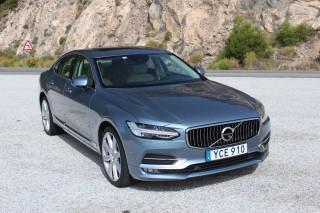volvo: (214, 122, 241, 144)
